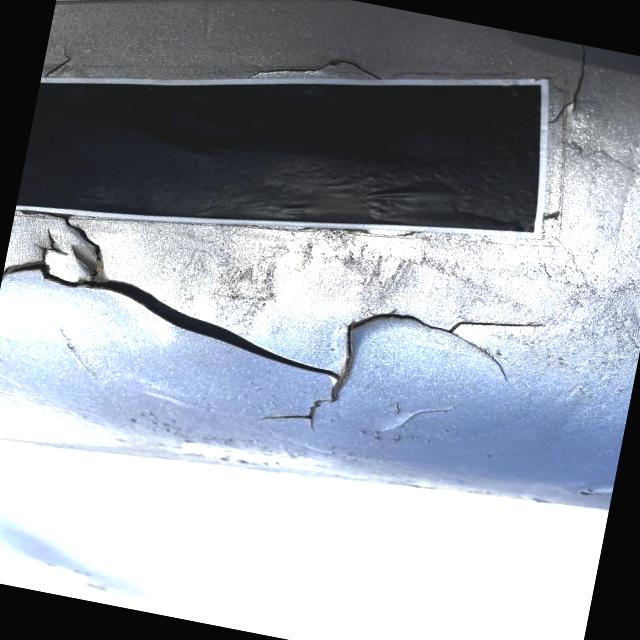crack: (0, 229, 336, 386)
dent: (335, 284, 557, 409), (267, 372, 369, 446)
